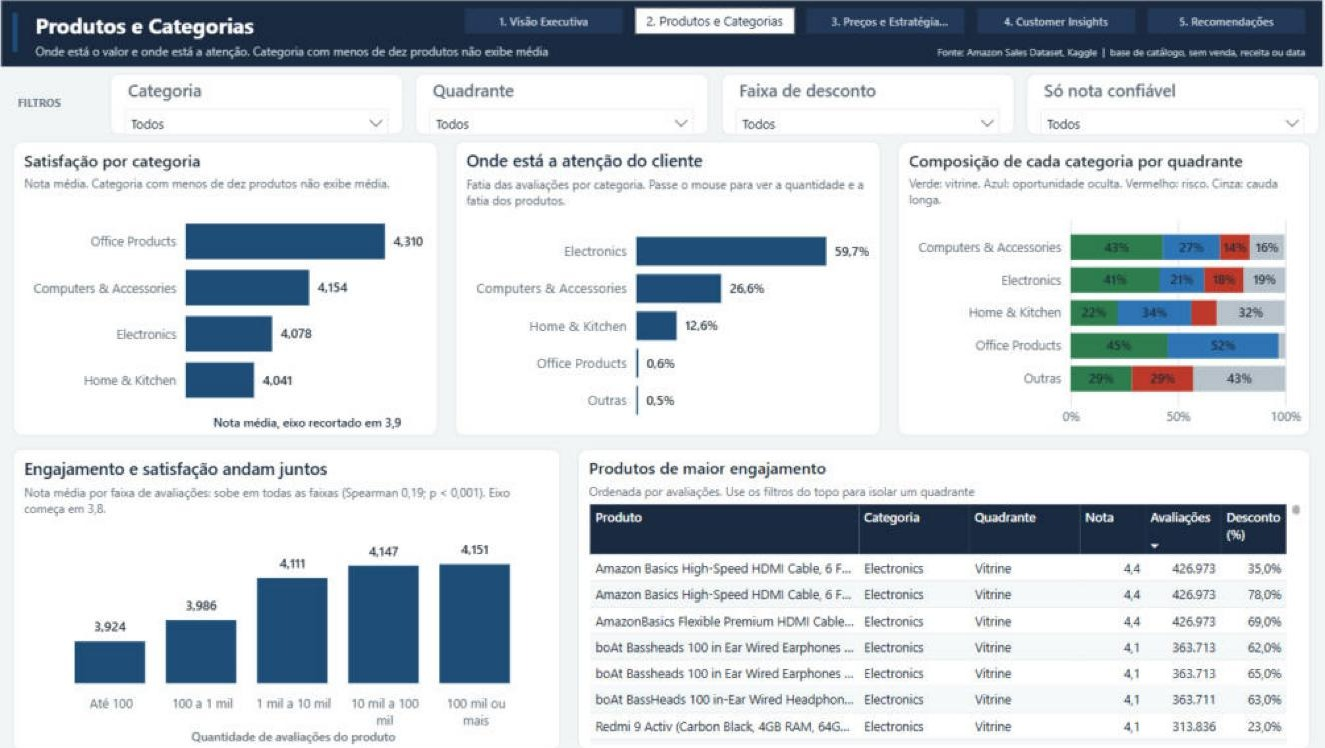

The dashboard page shown, as its layout file describes it:
{"tool":"powerbi","page":{"name":"2. Produtos e Categorias","canvas":[1280,720],"ordinal":1},"visuals":[{"type":"basicShape","box":[0,0,1280,64],"z":0},{"type":"basicShape","box":[0,64,1280,2],"z":1000},{"type":"basicShape","box":[24,12,5,38],"z":2000},{"type":"textbox","box":[40,6,400,41],"z":3000},{"type":"textbox","box":[40,36,760,28],"z":4000},{"type":"textbox","box":[800,36,456,26],"z":6000},{"type":"textbox","box":[24,84,84,28],"z":7000},{"type":"slicer","fields":{"Values":["fProdutos.categoria_n1_agrupada"]},"box":[116,70,278,58],"z":8000},{"type":"slicer","fields":{"Values":["fProdutos.quadrante"]},"box":[406,70,278,58],"z":9000},{"type":"slicer","fields":{"Values":["fProdutos.faixa_desconto"]},"box":[696,70,278,58],"z":10000},{"type":"slicer","fields":{"Values":["fProdutos.nota_confiavel"]},"box":[986,70,278,58],"z":11000},{"type":"clusteredBarChart","title":"Satisfação por categoria","fields":{"Category":["fProdutos.categoria_n1_agrupada"],"Y":["fProdutos.Nota Media Exibivel"]},"box":[24,134,404,280],"z":12000},{"type":"clusteredBarChart","title":"Onde está a atenção do cliente","fields":{"Category":["fProdutos.categoria_n1_agrupada"],"Y":["fProdutos.% das Avaliacoes"]},"box":[444,134,404,280],"z":13000},{"type":"hundredPercentStackedBarChart","title":"Composição de cada categoria por quadrante","fields":{"Category":["fProdutos.categoria_n1_agrupada"],"Series":["fProdutos.quadrante"],"Y":["fProdutos.Produtos"]},"box":[864,134,392,280],"z":14000},{"type":"tableEx","title":"Produtos de maior engajamento","fields":{"Values":["fProdutos.rotulo","fProdutos.categoria_n1","fProdutos.quadrante","fProdutos.nota","fProdutos.qtd_avaliacoes","fProdutos.desconto_pct"]},"box":[560,426,696,286],"z":15000},{"type":"columnChart","title":"Engajamento e satisfação andam juntos","fields":{"Category":["fProdutos.faixa_engajamento"],"Y":["fProdutos.Nota Media Simples"]},"box":[24,426,520,286],"z":16000},{"type":"pageNavigator","box":[452,7,804,26],"z":60000}]}

Visuals, with their boxes in screenshot pixels (x1, y1, x2, y2), scaled from the page's 1280x720 canvas onto the 1325x748 screenshot:
basicShape: [0,0,1324,66]
basicShape: [0,66,1324,69]
basicShape: [25,12,30,52]
textbox: [41,6,455,49]
textbox: [41,37,828,66]
textbox: [828,37,1300,64]
textbox: [25,87,112,116]
slicer - fProdutos.categoria_n1_agrupada: [120,73,408,133]
slicer - fProdutos.quadrante: [420,73,708,133]
slicer - fProdutos.faixa_desconto: [720,73,1008,133]
slicer - fProdutos.nota_confiavel: [1021,73,1308,133]
"Satisfação por categoria" clusteredBarChart: [25,139,443,430]
"Onde está a atenção do cliente" clusteredBarChart: [460,139,878,430]
"Composição de cada categoria por quadrante" hundredPercentStackedBarChart: [894,139,1300,430]
"Produtos de maior engajamento" tableEx: [580,443,1300,740]
"Engajamento e satisfação andam juntos" columnChart: [25,443,563,740]
pageNavigator: [468,7,1300,34]
